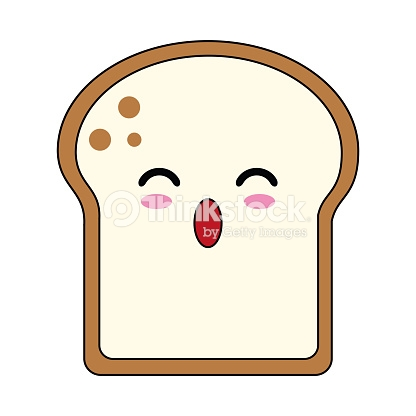slice of bread: (62, 92, 118, 377)
